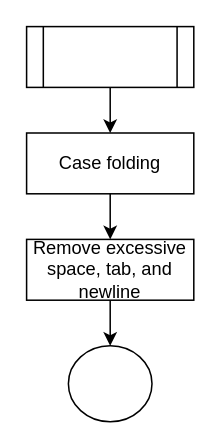
This 220x448 diagram has some shape labels left out. The centre of each missing label's shape, as x and y in pixels:
End: point (109, 383)
Preprocessing: point (109, 56)
